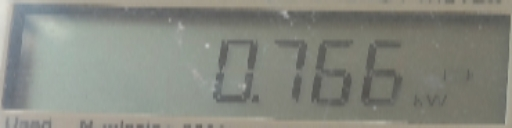0: (212, 35, 255, 105)
6: (309, 21, 357, 105), (359, 35, 405, 105)
7: (273, 30, 307, 110)
d: (250, 96, 264, 103)
